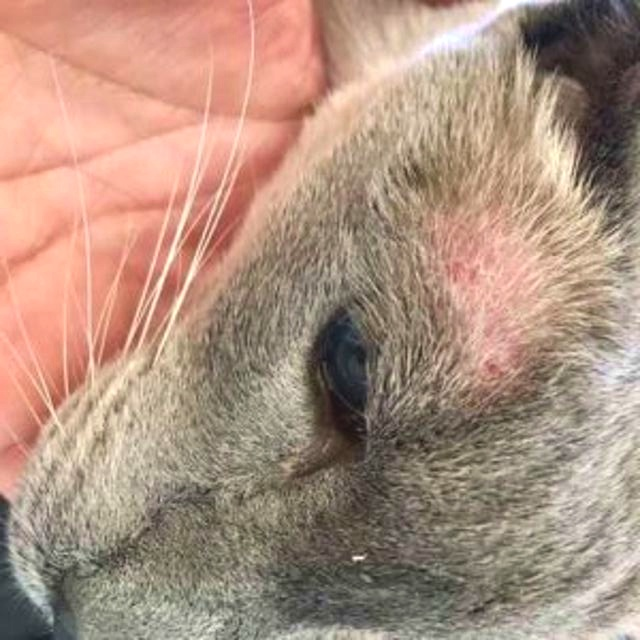ringworm: (457, 233, 545, 373)
